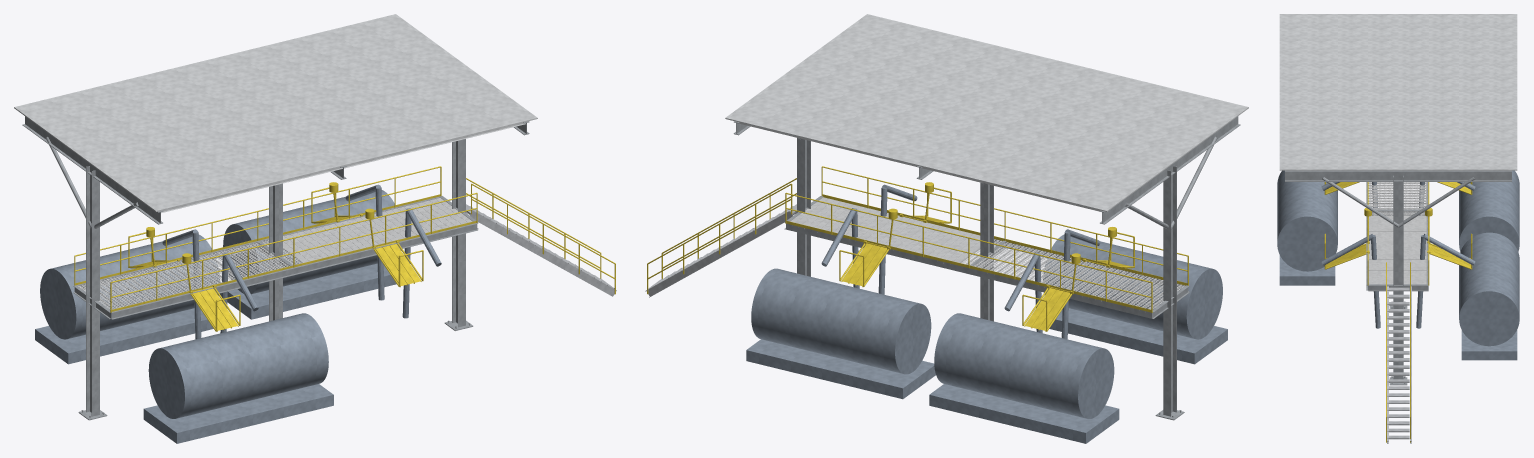
The model's file is truck-loading-gantries.glb.
The picture shows the model from 3 angles, left to right: view 1: azimuth 30°, elevation 25°; view 2: azimuth 150°, elevation 25°; view 3: azimuth 270°, elevation 25°; orthographic projection. The views are drawn at different scales.
Visible parts, largest first — view 1: Canopy, Tankers&LoadingArms(context), GantryFrame, LoadingPlatform, Handrails, Gangways&SafetyCages, AccessStair; view 2: Canopy, Tankers&LoadingArms(context), GantryFrame, LoadingPlatform, Handrails, Gangways&SafetyCages, AccessStair; view 3: Canopy, Tankers&LoadingArms(context), GantryFrame, LoadingPlatform, AccessStair, Gangways&SafetyCages, Handrails.
Part boxes in pixels (box(x1,y1,x2,y2)): Canopy: box(14, 14, 537, 212); Tankers&LoadingArms(context): box(35, 184, 441, 443); GantryFrame: box(22, 116, 529, 420); LoadingPlatform: box(78, 198, 472, 309); Handrails: box(74, 166, 615, 312); Gangways&SafetyCages: box(128, 182, 423, 331); AccessStair: box(466, 204, 616, 296); Canopy: box(725, 14, 1248, 211); Tankers&LoadingArms(context): box(746, 184, 1227, 443); GantryFrame: box(733, 116, 1240, 420); LoadingPlatform: box(790, 197, 1184, 312); Handrails: box(647, 166, 1188, 312); Gangways&SafetyCages: box(839, 182, 1134, 331); AccessStair: box(645, 204, 796, 297); Canopy: box(1279, 14, 1517, 170); Tankers&LoadingArms(context): box(1277, 170, 1519, 360); GantryFrame: box(1285, 170, 1511, 385); LoadingPlatform: box(1368, 182, 1426, 284); AccessStair: box(1387, 286, 1411, 443); Gangways&SafetyCages: box(1324, 182, 1472, 269); Handrails: box(1367, 182, 1429, 442).
Size of the model in its own units: 20.13 by 9.5 by 9.6.
Materials: 6 (6 with a texture image).
